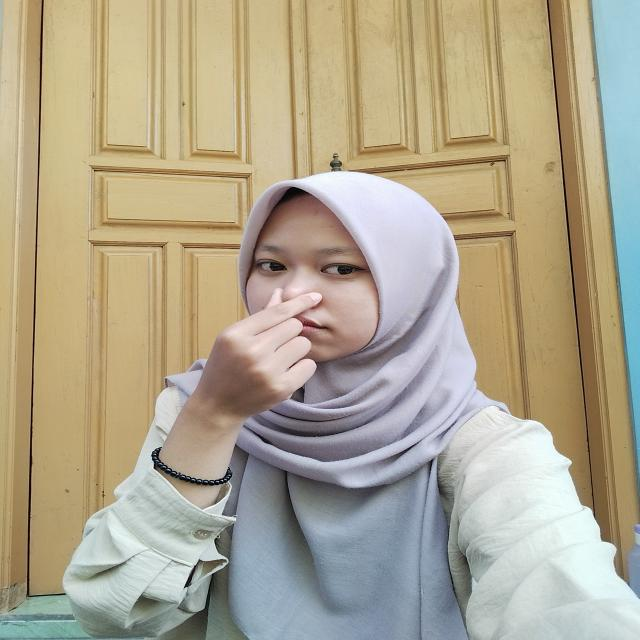bau: (146, 277, 323, 419)
